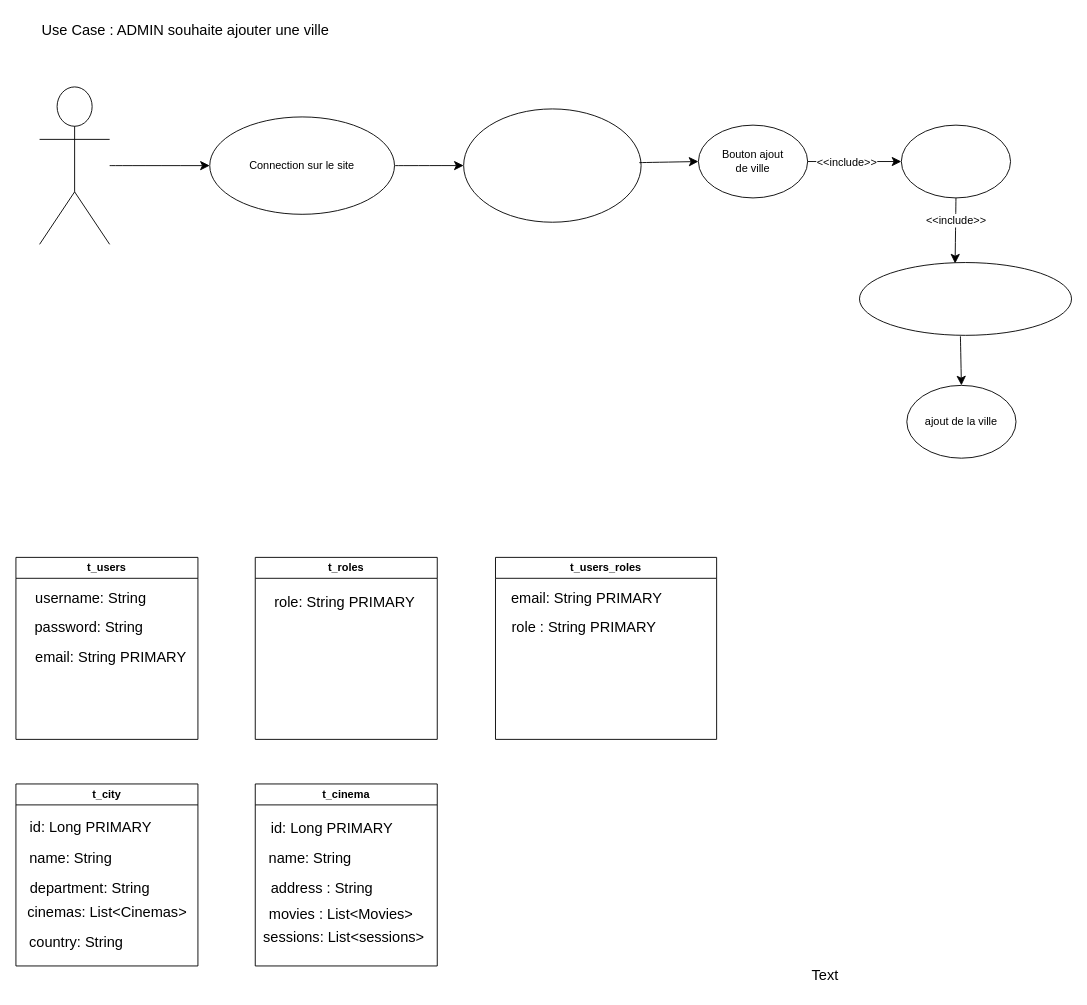
Image size: 1087x1005. Some labels were removed from this diagram. Here are the shapes that lost their labels. From the top down, the centre of each, then its label:
point (74, 165): Actor
point (552, 165): Accéde à la page d'administration
point (955, 161): Entrer les données
point (965, 298): vérification des données saisis
